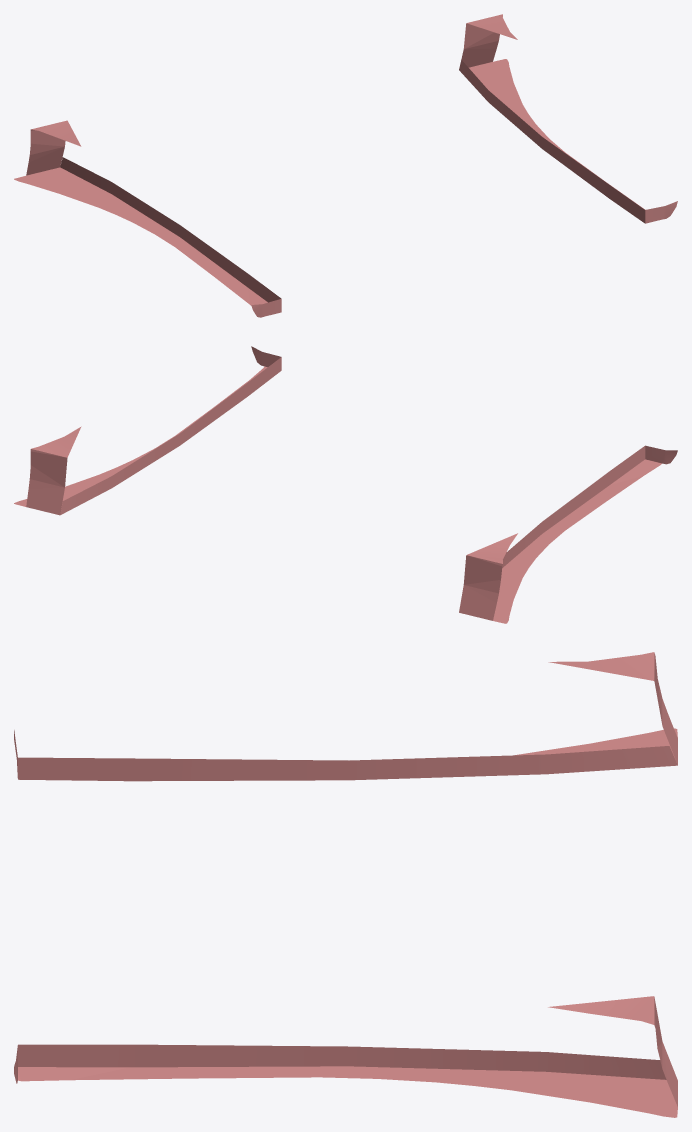
The model's file is RX7_SideSkirt02_Trim.fbx.
3 renders of one model, top to bottom at view 1: azimuth 30°, elevation 25°; view 2: azimuth 150°, elevation 25°; view 3: azimuth 270°, elevation 25°, orthographic. The views are drawn at different scales.
Visible parts, largest first — view 1: RX7_SideSkirt02_Trim; view 2: RX7_SideSkirt02_Trim; view 3: RX7_SideSkirt02_Trim.
Part boxes in pixels (<box>): RX7_SideSkirt02_Trim: <box>14,14,677,317</box>; RX7_SideSkirt02_Trim: <box>14,346,677,623</box>; RX7_SideSkirt02_Trim: <box>14,652,677,1117</box>.
Bounding box in the file's own units: 187 × 20.11 × 134.
